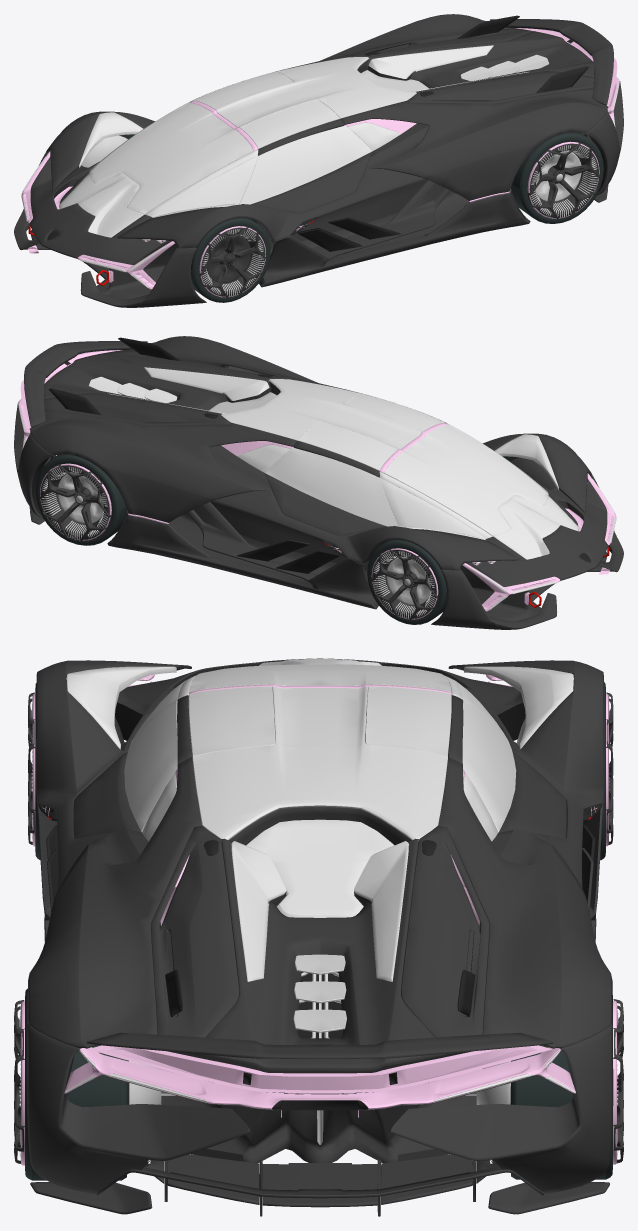
Rendered from Supercar 5.1.fbx.
The picture shows the model from 3 angles, top to bottom: view 1: azimuth 30°, elevation 25°; view 2: azimuth 150°, elevation 25°; view 3: azimuth 270°, elevation 25°; orthographic projection. The views are drawn at different scales.
Parts seen in each view (by area): view 1: Body, Glass_2, Glass 1.002, Wheel 3, wheel 2, Interior, Part 3, Door left, Part 2.001, Glass 1, Glass 1.001, wheel 1 (+1 smaller); view 2: Body, Glass_2, Glass 1.001, Wheel 4, wheel 1, Interior, Part 3, Door right, Part 2.001, Glass 1, Glass 1.002, wheel 2 (+1 smaller); view 3: Body, Glass_2, Interior, Glass 1, Glass 1.001, Glass 1.002, Part 2.001, Wheel 3, Part 3, Wheel 4, Door left, Door right (+3 smaller).
Boxes of the visible parts, box(x1,y1,x2,y2) form: Body: box(14, 14, 623, 307); Glass_2: box(59, 57, 416, 237); Glass 1.002: box(239, 99, 372, 204); Wheel 3: box(511, 132, 603, 223); wheel 2: box(190, 217, 270, 302); Interior: box(21, 28, 619, 289); Part 3: box(297, 15, 589, 251); Door left: box(252, 119, 372, 213); Part 2.001: box(490, 19, 613, 105); Glass 1: box(361, 54, 549, 91); Glass 1.001: box(193, 71, 293, 109); wheel 1: box(81, 134, 134, 167); Body: box(14, 336, 623, 629); Glass_2: box(221, 379, 578, 559); Glass 1.001: box(265, 421, 398, 526); Wheel 4: box(35, 454, 126, 545); wheel 1: box(367, 539, 447, 624); Interior: box(18, 350, 616, 611); Part 3: box(48, 337, 339, 573); Door right: box(265, 441, 385, 535); Part 2.001: box(24, 341, 147, 427); Glass 1: box(88, 376, 276, 413); Glass 1.002: box(344, 393, 444, 431); wheel 2: box(503, 456, 556, 489); Body: box(27, 658, 613, 1216); Glass_2: box(132, 658, 508, 841); Interior: box(38, 674, 602, 1117); Glass 1: box(246, 819, 394, 1032); Glass 1.001: box(365, 686, 516, 831); Glass 1.002: box(124, 686, 274, 831); Part 2.001: box(87, 1032, 553, 1058); Wheel 3: box(14, 988, 161, 1180); Part 3: box(46, 772, 595, 1095); Wheel 4: box(476, 995, 623, 1179); Door left: box(73, 695, 192, 838); Door right: box(365, 695, 566, 838).
Bounding box in the file's own units: 705 × 152 × 332.
